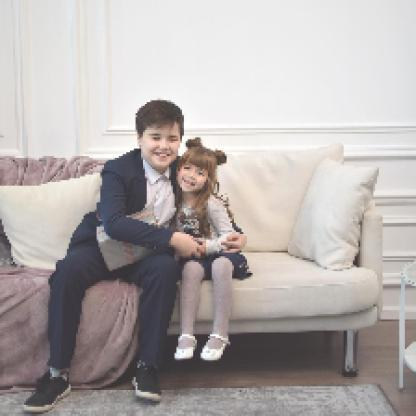child: (179, 136, 251, 365)
